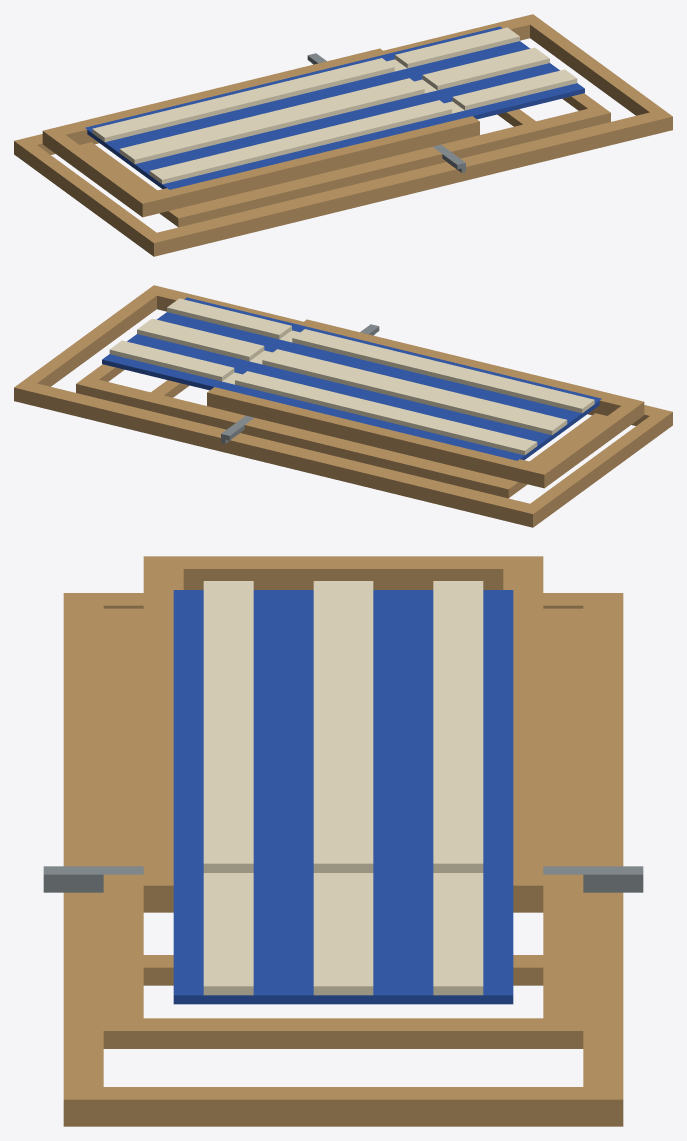
The model's file is deck_chair.glb.
3 renders of one model, top to bottom at view 1: azimuth 30°, elevation 25°; view 2: azimuth 150°, elevation 25°; view 3: azimuth 270°, elevation 25°, orthographic. The views are drawn at different scales.
Visible parts, largest first — view 1: deck_chair:compound; view 2: deck_chair:compound; view 3: deck_chair:compound.
Part boxes in pixels (x1,y1,x2,y2): deck_chair:compound: [14, 14, 672, 256]; deck_chair:compound: [14, 285, 672, 527]; deck_chair:compound: [43, 556, 643, 1126].
Bounding box in the file's own units: 1.2 × 0.09 × 0.6.
